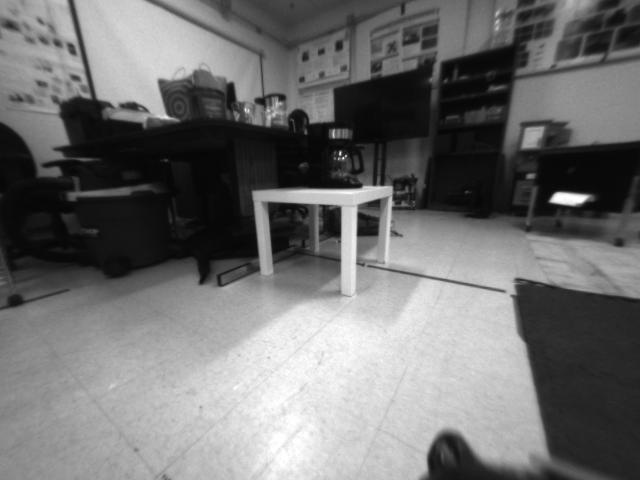coffee_pot: (305, 124, 364, 189)
